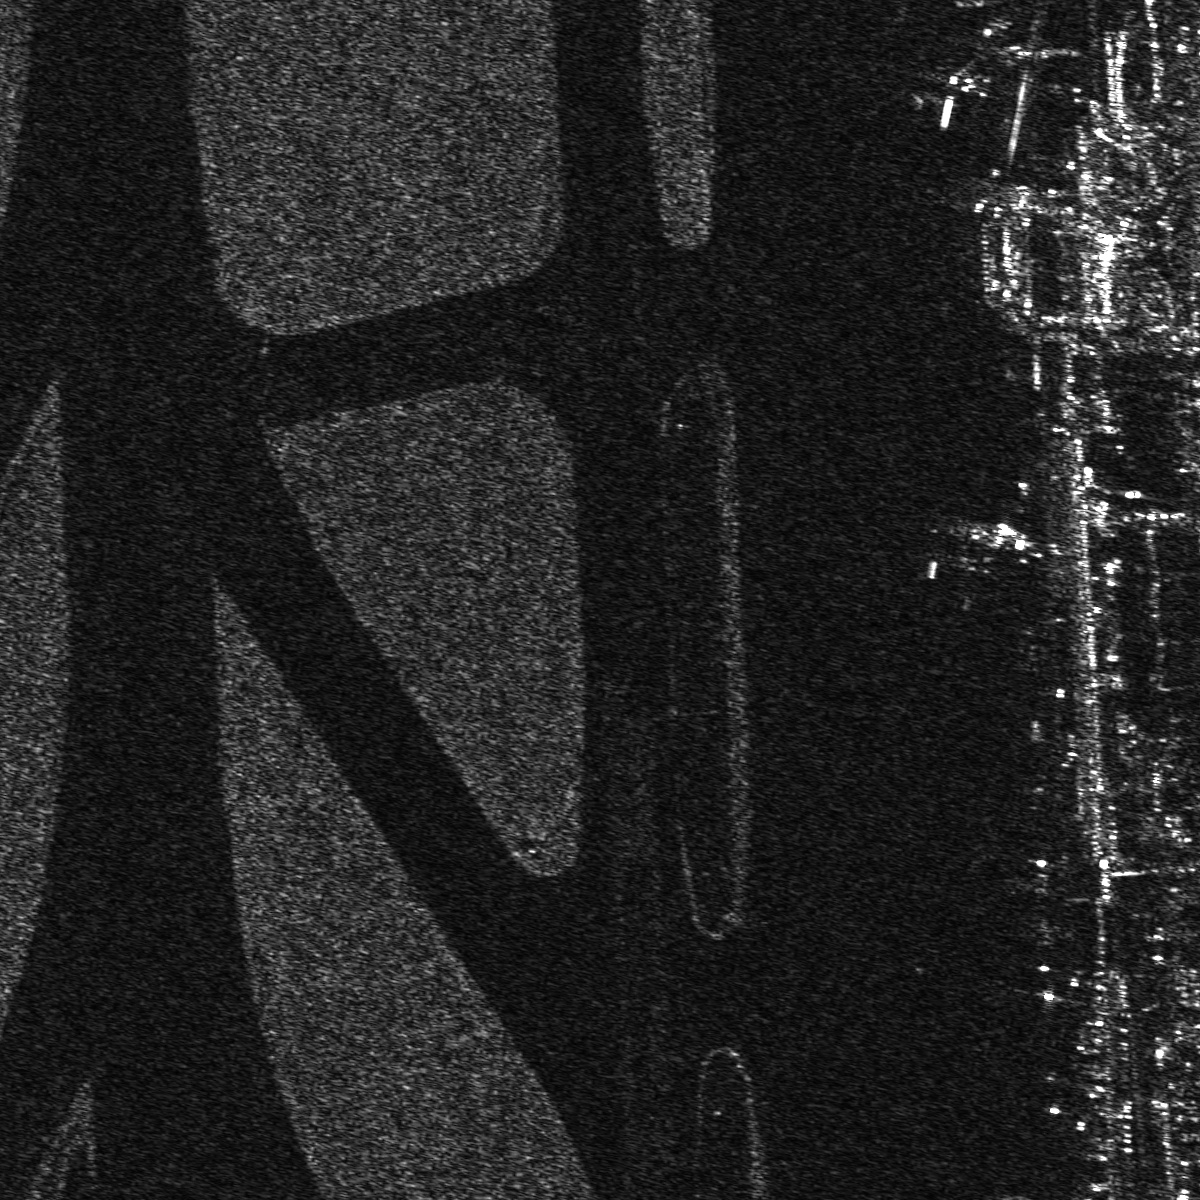A220: (916, 512, 1056, 582)
